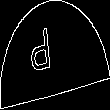P_S: (42, 27, 68, 83)
